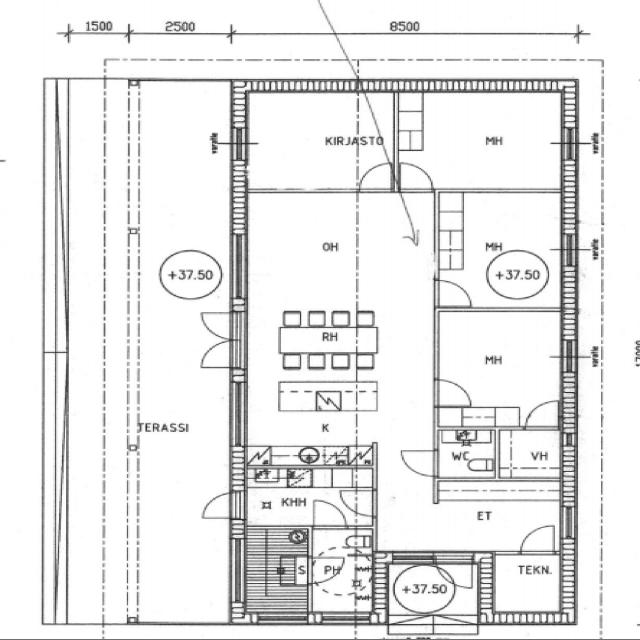door: (192, 309, 245, 370), (428, 375, 478, 409), (514, 521, 560, 557), (396, 445, 443, 479), (430, 276, 476, 308), (520, 397, 562, 432), (393, 160, 437, 193), (305, 555, 351, 586), (308, 497, 350, 530), (197, 489, 238, 522), (337, 487, 377, 520), (356, 161, 395, 193)
window: (221, 376, 254, 450), (225, 228, 253, 302), (221, 536, 246, 606), (252, 183, 355, 198), (556, 501, 580, 543), (253, 611, 308, 626), (316, 611, 369, 626), (558, 126, 580, 162)
zone: (236, 189, 438, 522), (396, 91, 576, 189), (236, 90, 400, 191), (433, 308, 572, 426), (434, 192, 570, 306), (374, 486, 564, 558), (234, 524, 312, 615), (482, 552, 574, 622), (385, 560, 481, 621), (279, 327, 373, 379), (307, 550, 377, 619), (494, 428, 566, 482), (434, 428, 496, 480), (310, 527, 374, 557)
